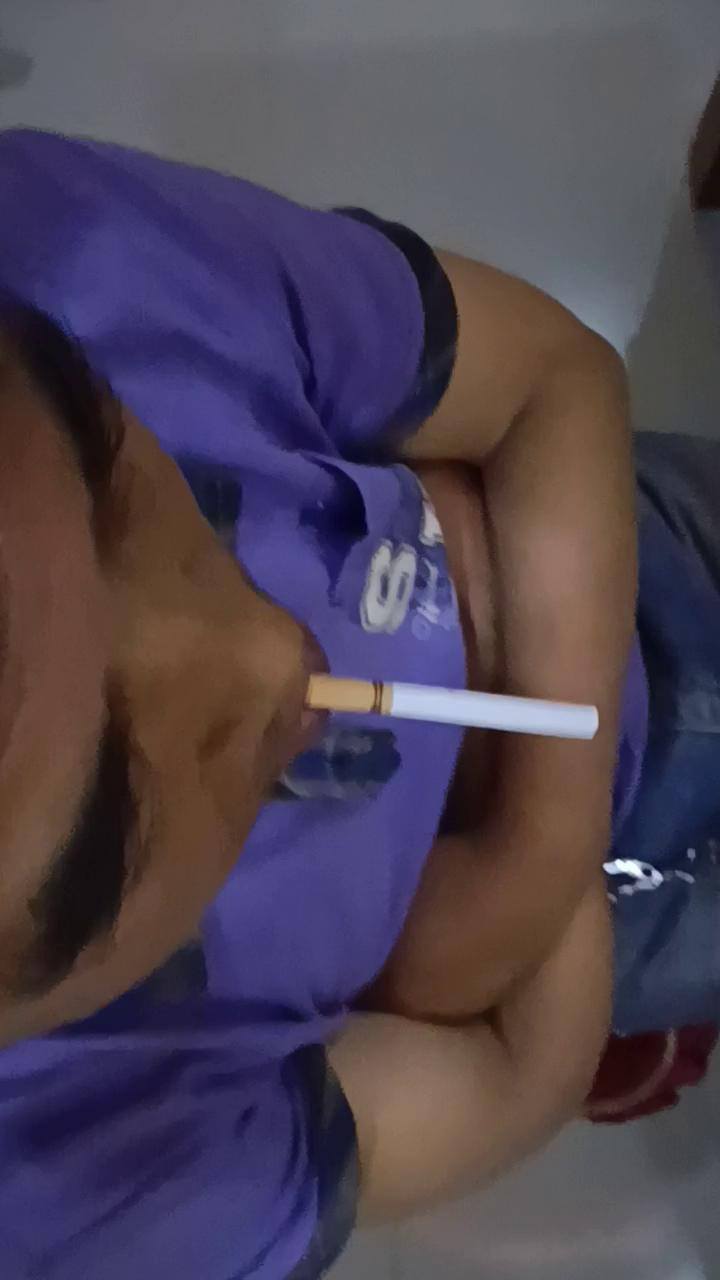smoke: (300, 674, 603, 742)
